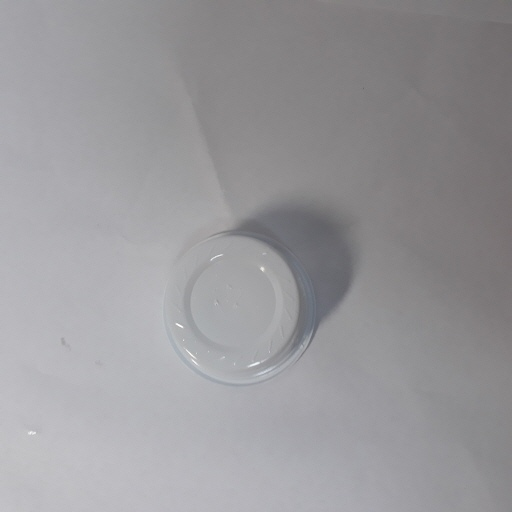Plastic_5: (157, 228, 319, 388)
